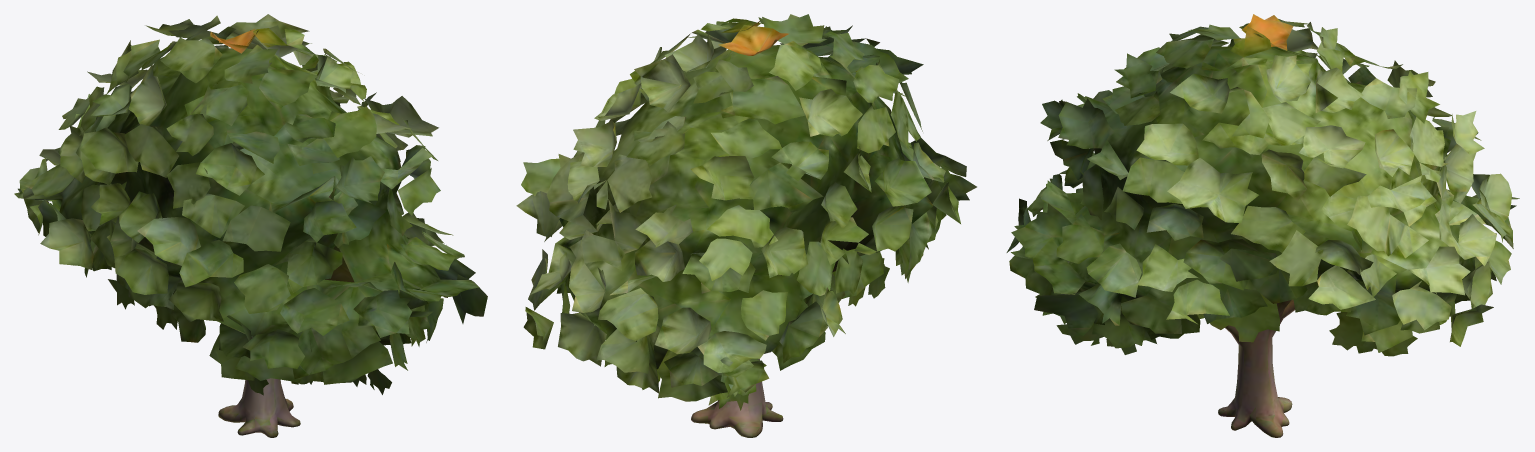
File: tree_maple.glb
3 views of the same model, side by side, from view 1: azimuth 30°, elevation 25°; view 2: azimuth 150°, elevation 25°; view 3: azimuth 270°, elevation 25° (orthographic). The views are drawn at different scales.
Size of the model in its own units: 5.41 by 5.91 by 7.12.
Materials: 1 (1 with a texture image).
